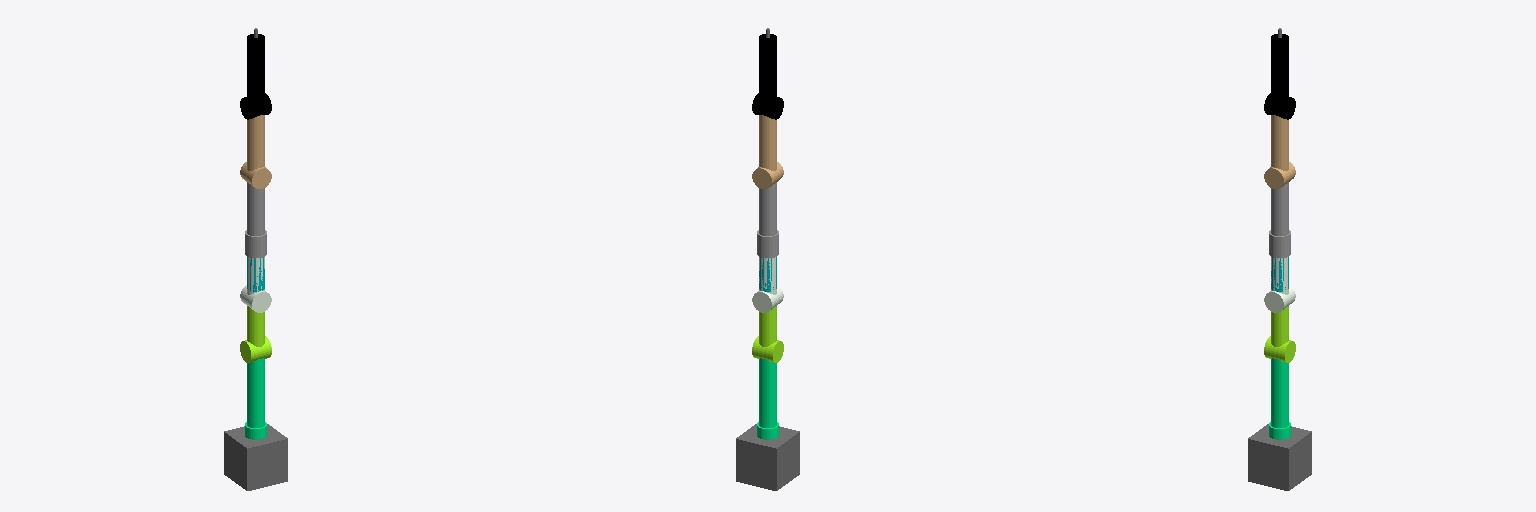
robot.urdf — test_robot:
<?xml version="1.0" ?>
<robot name="test_robot">
    <link name="base_link">
        <inertial>
            <mass value="1.0"/>
            <inertia ixx="0.010416666666666666" iyy="0.010416666666666666" izz="0.010416666666666666" ixy="0.0" ixz="0.0" iyz="0.0"/>
            <origin xyz="0 0 0" rpy="0 0 0"/>
        </inertial>
        <visual>
            <origin xyz="0 0 0" rpy="0 0 0"/>
            <geometry>
                <box size="0.25 0.25 0.25"/>
            </geometry>
            <material name="gray">
                <color rgba="0.5 0.5 0.5 1"/>
            </material>
        </visual>
    </link>
    <joint name="joint_viz0" type="fixed">
        <parent link="base_link"/>
        <child link="joint_viz_link0"/>
        <origin xyz="0 0 0.125" rpy="0 0 0"/>
    </joint>
    <link name="joint_viz_link0">
        <inertial>
            <mass value="0.0"/>
            <inertia ixx="0.0" iyy="0.0" izz="0.0" ixy="0.0" ixz="0.0" iyz="0.0"/>
            <origin xyz="0 0 0" rpy="0 0 0"/>
        </inertial>
        <visual>
            <origin xyz="0 0 0" rpy="0 0 0"/>
            <geometry>
                <cylinder length="0.125" radius="0.06"/>
            </geometry>
            <material name="mediumspringgreen">
                <color rgba="0.0 0.9803921568627451 0.6039215686274509 1.0"/>
            </material>
        </visual>
    </link>
    <joint name="joint0" type="revolute">
        <parent link="base_link"/>
        <child link="link0"/>
        <origin xyz="0 0 0.125" rpy="0 0 0"/>
        <axis xyz="0 0 1"/>
        <limit lower="-3.14" upper="3.14" effort="10" velocity="1"/>
    </joint>
    <link name="link0">
        <inertial>
            <mass value="1.0"/>
            <inertia ixx="0.021458333333333333" iyy="0.021458333333333333" izz="0.0012500000000000002" ixy="0.0" ixz="0.0" iyz="0.0"/>
            <origin xyz="0 0 0.25" rpy="0 0 0"/>
        </inertial>
        <visual>
            <origin xyz="0 0 0.25" rpy="0 0 0"/>
            <geometry>
                <cylinder length="0.5" radius="0.05"/>
            </geometry>
            <material name="mediumspringgreen">
                <color rgba="0.0 0.9803921568627451 0.6039215686274509 1.0"/>
            </material>
        </visual>
        <collision>
            <origin xyz="0 0 0.25" rpy="0 0 0"/>
            <geometry>
                <cylinder length="0.5" radius="0.05"/>
            </geometry>
        </collision>
    </link>
    <joint name="joint_viz1" type="fixed">
        <parent link="link0"/>
        <child link="joint_viz_link1"/>
        <origin xyz="0 0 0.5" rpy="0 0 0"/>
    </joint>
    <link name="joint_viz_link1">
        <inertial>
            <mass value="0.0"/>
            <inertia ixx="0.0" iyy="0.0" izz="0.0" ixy="0.0" ixz="0.0" iyz="0.0"/>
            <origin xyz="0 0 0" rpy="0 1.57 0"/>
        </inertial>
        <visual>
            <origin xyz="0 0 0" rpy="0 1.57 0"/>
            <geometry>
                <cylinder length="0.125" radius="0.06"/>
            </geometry>
            <material name="greenyellow">
                <color rgba="0.6784313725490196 1.0 0.1843137254901961 1.0"/>
            </material>
        </visual>
    </link>
    <joint name="joint1" type="revolute">
        <parent link="link0"/>
        <child link="link1"/>
        <origin xyz="0 0 0.5" rpy="0 0 0"/>
        <axis xyz="1 0 0"/>
        <limit lower="-3.14" upper="3.14" effort="10" velocity="1"/>
    </joint>
    <link name="link1">
        <inertial>
            <mass value="1.0"/>
            <inertia ixx="0.008125" iyy="0.008125" izz="0.0012500000000000002" ixy="0.0" ixz="0.0" iyz="0.0"/>
            <origin xyz="0 0 0.15" rpy="0 0 0"/>
        </inertial>
        <visual>
            <origin xyz="0 0 0.15" rpy="0 0 0"/>
            <geometry>
                <cylinder length="0.3" radius="0.05"/>
            </geometry>
            <material name="greenyellow">
                <color rgba="0.6784313725490196 1.0 0.1843137254901961 1.0"/>
            </material>
        </visual>
        <collision>
            <origin xyz="0 0 0.15" rpy="0 0 0"/>
            <geometry>
                <cylinder length="0.3" radius="0.05"/>
            </geometry>
        </collision>
    </link>
    <joint name="joint_viz2" type="fixed">
        <parent link="link1"/>
        <child link="joint_viz_link2"/>
        <origin xyz="0 0 0.3" rpy="0 0 0"/>
    </joint>
    <link name="joint_viz_link2">
        <inertial>
            <mass value="0.0"/>
            <inertia ixx="0.0" iyy="0.0" izz="0.0" ixy="0.0" ixz="0.0" iyz="0.0"/>
            <origin xyz="0 0 0" rpy="1.57 0 0"/>
        </inertial>
        <visual>
            <origin xyz="0 0 0" rpy="1.57 0 0"/>
            <geometry>
                <cylinder length="0.125" radius="0.06"/>
            </geometry>
            <material name="honeydew">
                <color rgba="0.9411764705882353 1.0 0.9411764705882353 1.0"/>
            </material>
        </visual>
    </link>
    <joint name="joint2" type="revolute">
        <parent link="link1"/>
        <child link="link2"/>
        <origin xyz="0 0 0.3" rpy="0 0 0"/>
        <axis xyz="0 1 0"/>
        <limit lower="-3.14" upper="3.14" effort="10" velocity="1"/>
    </joint>
    <link name="link2">
        <inertial>
            <mass value="1.0"/>
            <inertia ixx="0.008125" iyy="0.008125" izz="0.0012500000000000002" ixy="0.0" ixz="0.0" iyz="0.0"/>
            <origin xyz="0 0 0.15" rpy="0 0 0"/>
        </inertial>
        <visual>
            <origin xyz="0 0 0.15" rpy="0 0 0"/>
            <geometry>
                <cylinder length="0.3" radius="0.05"/>
            </geometry>
            <material name="honeydew">
                <color rgba="0.9411764705882353 1.0 0.9411764705882353 1.0"/>
            </material>
        </visual>
        <collision>
            <origin xyz="0 0 0.15" rpy="0 0 0"/>
            <geometry>
                <cylinder length="0.3" radius="0.05"/>
            </geometry>
        </collision>
    </link>
    <joint name="joint3" type="prismatic">
        <parent link="link2"/>
        <child link="link3"/>
        <origin xyz="0 0 0.061" rpy="0 0 0"/>
        <axis xyz="0 0 1"/>
        <limit lower="0" upper="0.25" effort="10" velocity="1"/>
    </joint>
    <link name="link3">
        <inertial>
            <mass value="1.0"/>
            <inertia ixx="0.00630175" iyy="0.00630175" izz="0.0012500000000000002" ixy="0.0" ixz="0.0" iyz="0.0"/>
            <origin xyz="0 0 0.1305" rpy="0 0 0"/>
        </inertial>
        <visual>
            <origin xyz="0 0 0.1305" rpy="0 0 0"/>
            <geometry>
                <cylinder length="0.261" radius="0.05"/>
            </geometry>
            <material name="darkturquoise">
                <color rgba="0.0 0.807843137254902 0.8196078431372549 1.0"/>
            </material>
        </visual>
        <collision>
            <origin xyz="0 0 0.1305" rpy="0 0 0"/>
            <geometry>
                <cylinder length="0.261" radius="0.05"/>
            </geometry>
        </collision>
    </link>
    <joint name="joint_viz4" type="fixed">
        <parent link="link3"/>
        <child link="joint_viz_link4"/>
        <origin xyz="0 0 0.261" rpy="0 0 0"/>
    </joint>
    <link name="joint_viz_link4">
        <inertial>
            <mass value="0.0"/>
            <inertia ixx="0.0" iyy="0.0" izz="0.0" ixy="0.0" ixz="0.0" iyz="0.0"/>
            <origin xyz="0 0 0" rpy="0 0 0"/>
        </inertial>
        <visual>
            <origin xyz="0 0 0" rpy="0 0 0"/>
            <geometry>
                <cylinder length="0.125" radius="0.06"/>
            </geometry>
            <material name="darkgray">
                <color rgba="0.6627450980392157 0.6627450980392157 0.6627450980392157 1.0"/>
            </material>
        </visual>
    </link>
    <joint name="joint4" type="revolute">
        <parent link="link3"/>
        <child link="link4"/>
        <origin xyz="0 0 0.261" rpy="0 0 0"/>
        <axis xyz="0 0 1"/>
        <limit lower="-3.14" upper="3.14" effort="10" velocity="1"/>
    </joint>
    <link name="link4">
        <inertial>
            <mass value="1.0"/>
            <inertia ixx="0.013958333333333336" iyy="0.013958333333333336" izz="0.0012500000000000002" ixy="0.0" ixz="0.0" iyz="0.0"/>
            <origin xyz="0 0 0.2" rpy="0 0 0"/>
        </inertial>
        <visual>
            <origin xyz="0 0 0.2" rpy="0 0 0"/>
            <geometry>
                <cylinder length="0.4" radius="0.05"/>
            </geometry>
            <material name="darkgray">
                <color rgba="0.6627450980392157 0.6627450980392157 0.6627450980392157 1.0"/>
            </material>
        </visual>
        <collision>
            <origin xyz="0 0 0.2" rpy="0 0 0"/>
            <geometry>
                <cylinder length="0.4" radius="0.05"/>
            </geometry>
        </collision>
    </link>
    <joint name="joint_viz5" type="fixed">
        <parent link="link4"/>
        <child link="joint_viz_link5"/>
        <origin xyz="0 0 0.4" rpy="0 0 0"/>
    </joint>
    <link name="joint_viz_link5">
        <inertial>
            <mass value="0.0"/>
            <inertia ixx="0.0" iyy="0.0" izz="0.0" ixy="0.0" ixz="0.0" iyz="0.0"/>
            <origin xyz="0 0 0" rpy="1.57 0 0"/>
        </inertial>
        <visual>
            <origin xyz="0 0 0" rpy="1.57 0 0"/>
            <geometry>
                <cylinder length="0.125" radius="0.06"/>
            </geometry>
            <material name="burlywood">
                <color rgba="0.8705882352941177 0.7215686274509804 0.5294117647058824 1.0"/>
            </material>
        </visual>
    </link>
    <joint name="joint5" type="revolute">
        <parent link="link4"/>
        <child link="link5"/>
        <origin xyz="0 0 0.4" rpy="0 0 0"/>
        <axis xyz="0 1 0"/>
        <limit lower="-3.14" upper="3.14" effort="10" velocity="1"/>
    </joint>
    <link name="link5">
        <inertial>
            <mass value="1.0"/>
            <inertia ixx="0.013958333333333336" iyy="0.013958333333333336" izz="0.0012500000000000002" ixy="0.0" ixz="0.0" iyz="0.0"/>
            <origin xyz="0 0 0.2" rpy="0 0 0"/>
        </inertial>
        <visual>
            <origin xyz="0 0 0.2" rpy="0 0 0"/>
            <geometry>
                <cylinder length="0.4" radius="0.05"/>
            </geometry>
            <material name="burlywood">
                <color rgba="0.8705882352941177 0.7215686274509804 0.5294117647058824 1.0"/>
            </material>
        </visual>
        <collision>
            <origin xyz="0 0 0.2" rpy="0 0 0"/>
            <geometry>
                <cylinder length="0.4" radius="0.05"/>
            </geometry>
        </collision>
    </link>
    <joint name="joint_viz6" type="fixed">
        <parent link="link5"/>
        <child link="joint_viz_link6"/>
        <origin xyz="0 0 0.4" rpy="0 0 0"/>
    </joint>
    <link name="joint_viz_link6">
        <inertial>
            <mass value="0.0"/>
            <inertia ixx="0.0" iyy="0.0" izz="0.0" ixy="0.0" ixz="0.0" iyz="0.0"/>
            <origin xyz="0 0 0" rpy="0 1.57 0"/>
        </inertial>
        <visual>
            <origin xyz="0 0 0" rpy="0 1.57 0"/>
            <geometry>
                <cylinder length="0.125" radius="0.06"/>
            </geometry>
            <material name="black">
                <color rgba="0.0 0.0 0.0 1.0"/>
            </material>
        </visual>
    </link>
    <joint name="joint6" type="revolute">
        <parent link="link5"/>
        <child link="link6"/>
        <origin xyz="0 0 0.4" rpy="0 0 0"/>
        <axis xyz="1 0 0"/>
        <limit lower="-3.14" upper="3.14" effort="10" velocity="1"/>
    </joint>
    <link name="link6">
        <inertial>
            <mass value="1.0"/>
            <inertia ixx="0.013958333333333336" iyy="0.013958333333333336" izz="0.0012500000000000002" ixy="0.0" ixz="0.0" iyz="0.0"/>
            <origin xyz="0 0 0.2" rpy="0 0 0"/>
        </inertial>
        <visual>
            <origin xyz="0 0 0.2" rpy="0 0 0"/>
            <geometry>
                <cylinder length="0.4" radius="0.05"/>
            </geometry>
            <material name="black">
                <color rgba="0.0 0.0 0.0 1.0"/>
            </material>
        </visual>
        <collision>
            <origin xyz="0 0 0.2" rpy="0 0 0"/>
            <geometry>
                <cylinder length="0.4" radius="0.05"/>
            </geometry>
        </collision>
    </link>
    <joint name="probe_joint" type="fixed">
        <parent link="link6"/>
        <child link="probe_link"/>
        <origin xyz="0 0 0.4" rpy="0 0 0"/>
    </joint>
    <link name="probe_link">
        <inertial>
            <mass value="0.0"/>
            <inertia ixx="0.0" iyy="0.0" izz="0.0" ixy="0.0" ixz="0.0" iyz="0.0"/>
            <origin xyz="0 0 0" rpy="0 0 0"/>
        </inertial>
        <visual>
            <origin xyz="0 0 0" rpy="0 0 0"/>
            <geometry>
                <cylinder length="0.1" radius="0.01"/>
            </geometry>
            <material name="gray">
                <color rgba="0.5 0.5 0.5 1"/>
            </material>
        </visual>
    </link>
    <joint name="end_effector_joint" type="fixed">
        <parent link="probe_link"/>
        <child link="end_effector"/>
        <origin xyz="0 0 0.1" rpy="0 0 0"/>
    </joint>
    <link name="end_effector">
        <inertial>
            <mass value="0.0"/>
            <inertia ixx="0.0" iyy="0.0" izz="0.0" ixy="0.0" ixz="0.0" iyz="0.0"/>
            <origin xyz="0 0 0" rpy="0 0 0"/>
        </inertial>
        <visual>
            <origin xyz="0 0 0" rpy="0 0 0"/>
            <geometry>
                <cylinder length="0" radius="0"/>
            </geometry>
            <material name="gray">
                <color rgba="0.5 0.5 0.5 1"/>
            </material>
        </visual>
    </link>
</robot>

--- What the picture shows (computed from the rendered views, not written in the file) ---
3 views of the same robot in one strip: view 1: azimuth 30°, elevation 25°; view 2: azimuth 150°, elevation 25°; view 3: azimuth 330°, elevation 25° (orthographic).
Model test_robot with 16 links and 15 joints (6 revolute, 1 prismatic, 8 fixed), rooted at base_link, posed every joint at zero.
Visible links, largest first — view 1: base_link, link0, link6, link5, link4, link1, joint_viz_link1; view 2: base_link, link0, link6, link5, link4, link1, joint_viz_link1; view 3: base_link, link0, link6, link5, link4, link1, joint_viz_link1.
Boxes of the visible links, box(x1,y1,x2,y2) form: base_link: box(224, 424, 287, 490); link0: box(247, 358, 264, 427); link6: box(247, 34, 264, 103); link5: box(247, 115, 264, 170); link4: box(247, 182, 264, 235); link1: box(247, 306, 264, 346); joint_viz_link1: box(240, 336, 271, 362); base_link: box(736, 424, 799, 490); link0: box(759, 358, 776, 427); link6: box(759, 34, 776, 103); link5: box(759, 115, 776, 170); link4: box(759, 182, 776, 235); link1: box(759, 306, 776, 346); joint_viz_link1: box(752, 336, 783, 362); base_link: box(1248, 424, 1311, 490); link0: box(1271, 358, 1288, 427); link6: box(1271, 34, 1288, 103); link5: box(1271, 115, 1288, 170); link4: box(1271, 182, 1288, 235); link1: box(1271, 306, 1288, 346); joint_viz_link1: box(1264, 336, 1295, 362).
Bounding box of the posed robot: 0.25 × 0.25 × 2.67 m (x, y, z).
Geometry: primitives only (box / cylinder / sphere), no mesh files.